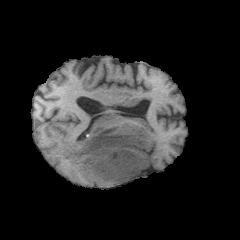glioma: (57, 126, 155, 186)
